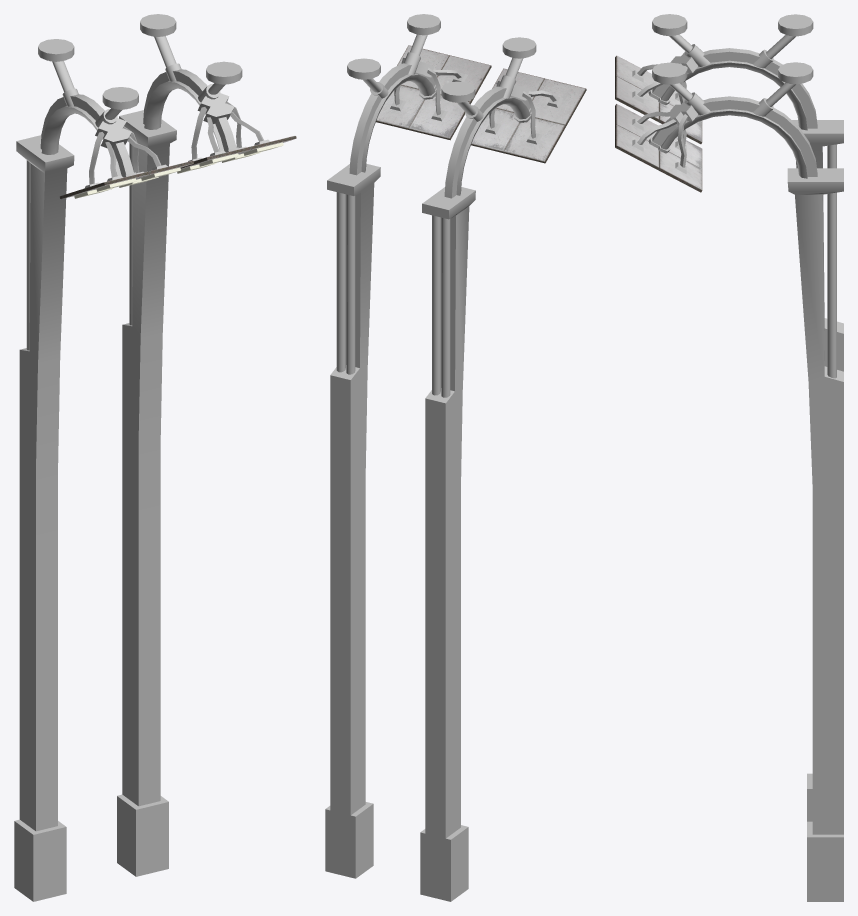
File: pG_pole_01.fbx
3 views of the same model, side by side, from view 1: azimuth 30°, elevation 25°; view 2: azimuth 150°, elevation 25°; view 3: azimuth 270°, elevation 25° (orthographic). The views are drawn at different scales.
Parts seen in each view (by area): view 1: pole_01; view 2: pole_01; view 3: pole_01.
Part boxes in pixels (x1,y1,x2,y2): pole_01: [14, 14, 296, 901]; pole_01: [325, 14, 586, 901]; pole_01: [615, 14, 843, 901].
Size of the model in its own units: 187 by 797 by 200.
